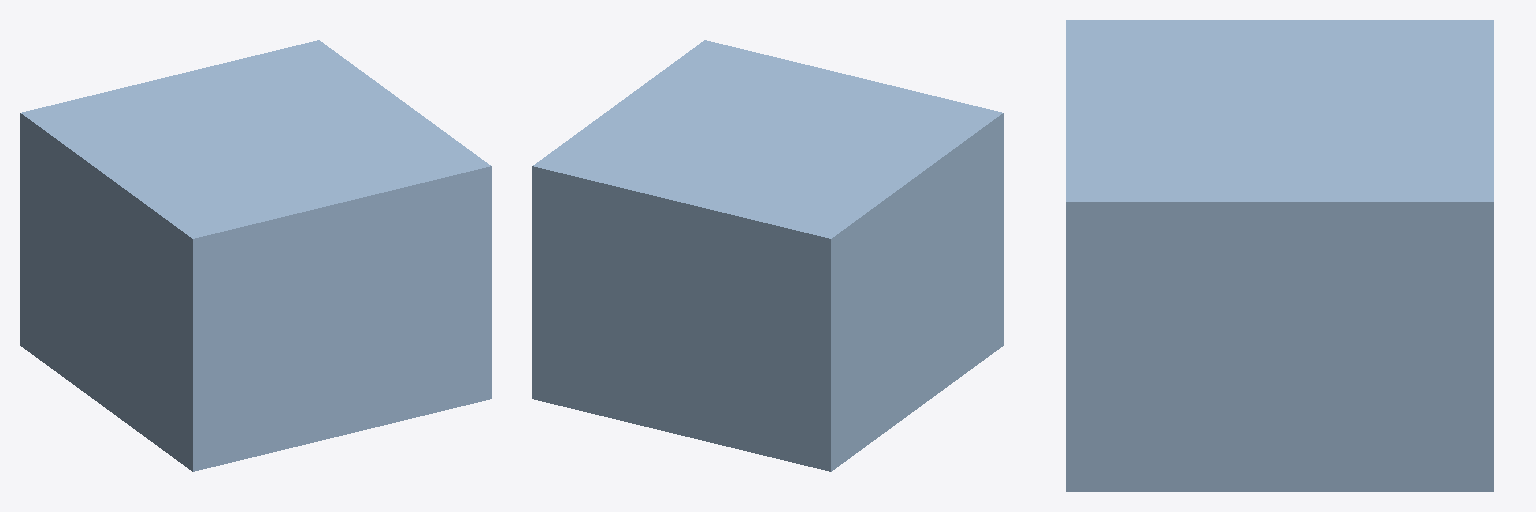
robot.urdf — box_32:
<?xml version='1.0' encoding='utf-8'?>
<robot name="box_32">
  <link name="baseLink">
    <inertial>
      <mass value="0.1" />
      <origin xyz="0 0 0" />
      <inertia ixx="0.002" ixy="0" ixz="0" iyy="0.002" iyz="0" izz="0.002" />
    </inertial>
    <visual name="visual_000">
      <origin rpy="0 0 0" xyz="0 0 0" />
      <geometry>
        <mesh filename="../../../../../../data/ds_as_data/carryany_filter_scale_noscale_keep169_20260513_plus_box_teacher_rollout_success155_bcleb5oi58000_final0p5_primitiveproj_solid80_clean_box_bin_barrel_ball/objects/motion_bank_box_32/box_32.obj" scale="1 1 1" />
      </geometry>
      <material name="mat">
        <color rgba="0.7 0.8 0.9 0.7" />
      </material>
    </visual>
    <collision name="collision_000">
      <origin rpy="0 0 0" xyz="0 0 0" />
      <geometry>
        <mesh filename="../../../../../../data/ds_as_data/carryany_filter_scale_noscale_keep169_20260513_plus_box_teacher_rollout_success155_bcleb5oi58000_final0p5_primitiveproj_solid80_clean_box_bin_barrel_ball/objects/motion_bank_box_32/box_32.obj" scale="1 1 1" />
      </geometry>
    </collision>
  </link>
</robot>

--- Facts derived from the render (not from the file) ---
The picture shows the robot from 3 angles, left to right: view 1: azimuth 30°, elevation 25°; view 2: azimuth 150°, elevation 25°; view 3: azimuth 270°, elevation 25°; orthographic projection.
Model box_32 with 1 links and 0 joints (none), rooted at baseLink, posed all joints at 0.
Links seen in each view (by area): view 1: baseLink; view 2: baseLink; view 3: baseLink.
Link boxes in pixels (bbox=[...]): baseLink: bbox=[20, 40, 491, 471]; baseLink: bbox=[532, 40, 1003, 471]; baseLink: bbox=[1066, 20, 1493, 491].
Bounding box of the posed robot: 0.3776 × 0.3775 × 0.2815 m (x, y, z).
Meshes: 1 distinct files referenced, 1 mesh visuals loaded (1 OBJ).
